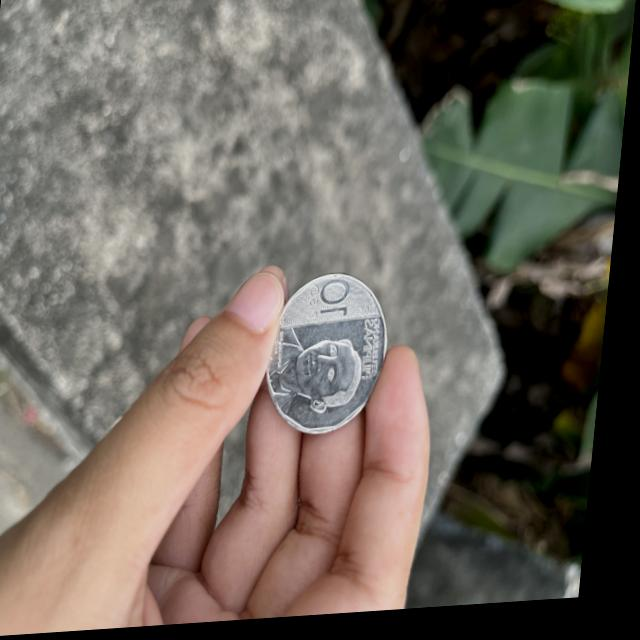10_New_Front: (303, 264, 370, 335)
